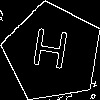H: (28, 28, 71, 79)
